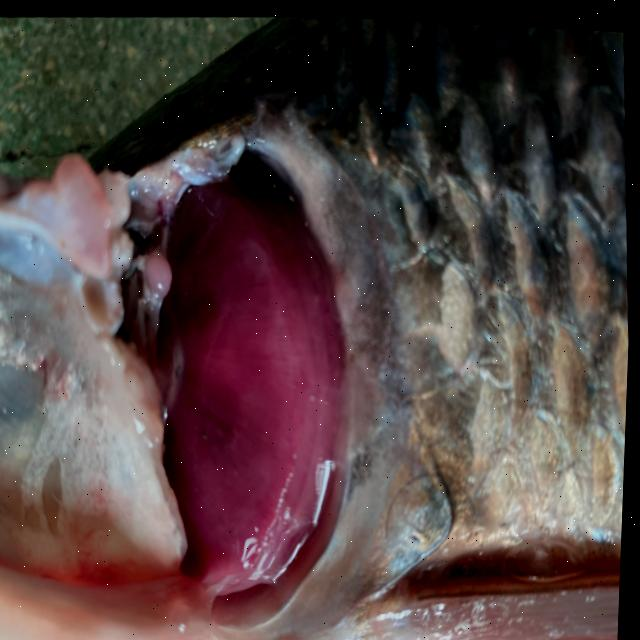Fresh: (86, 78, 374, 636)
